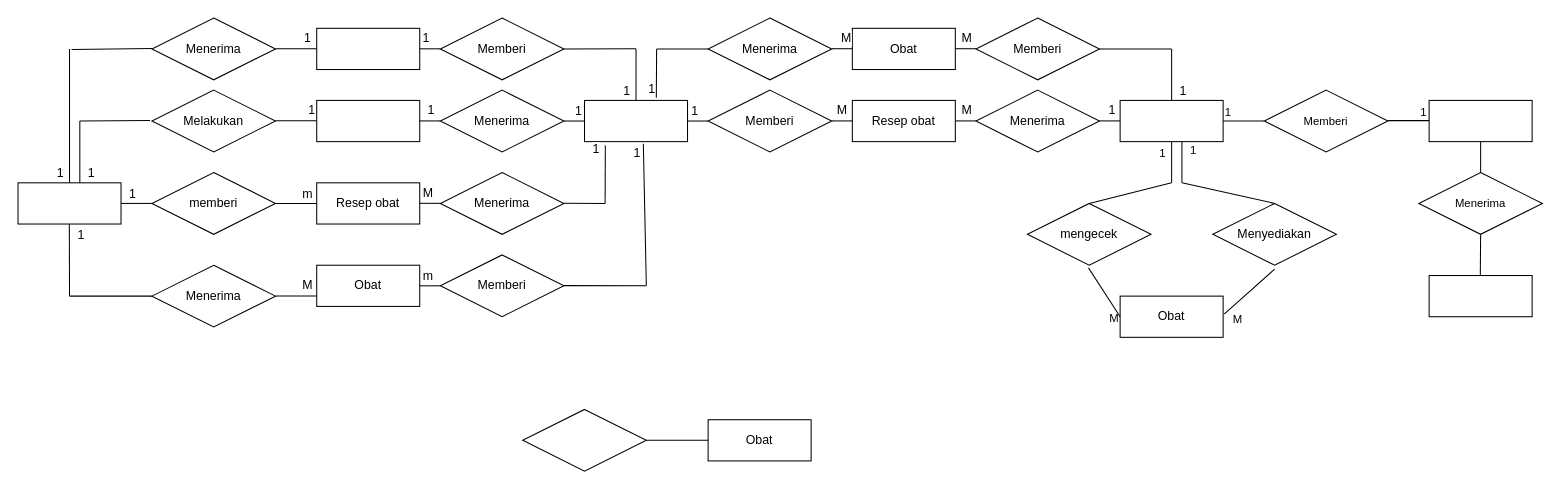
This 1560x489 diagram has some shape labels left out. The box of each missing label's shape, as (x1, y1, x2, y2) in pixels:
Apoteker: (1119, 99, 1223, 142)
informasi: (1428, 99, 1532, 142)
Kasir: (583, 99, 688, 142)
Kembalian: (316, 27, 420, 70)
mengelola: (522, 408, 646, 471)
Pasien: (17, 182, 121, 224)
Pembayaran: (316, 99, 420, 142)
Suplayer: (1428, 274, 1532, 317)
